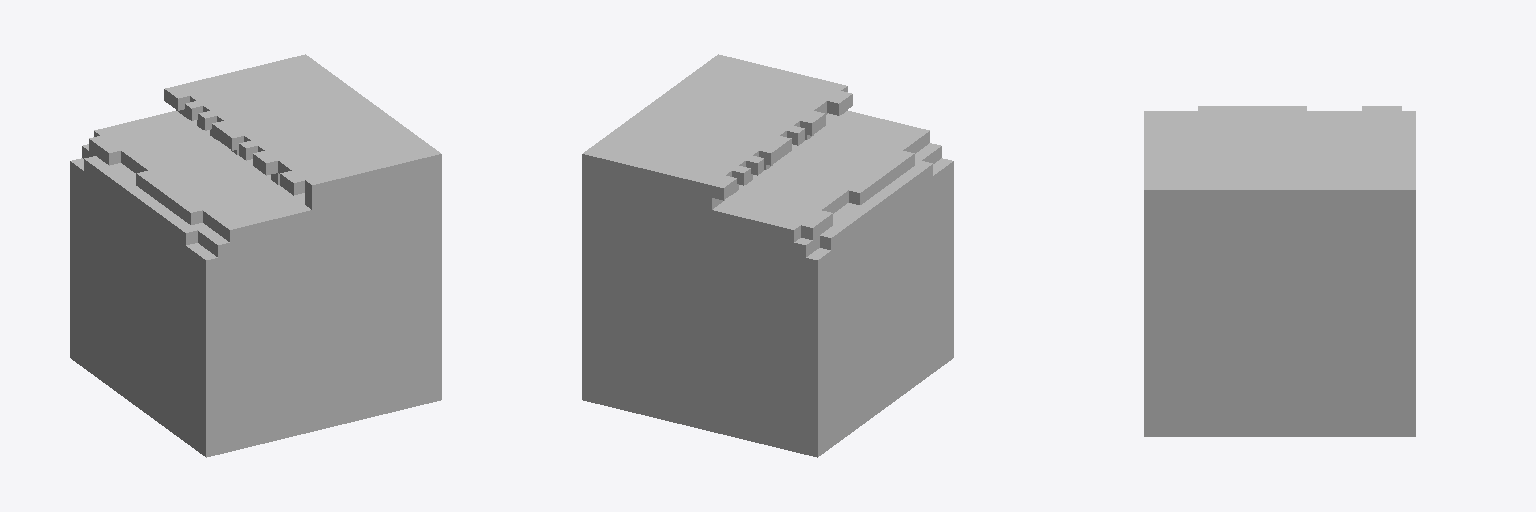
Rendered from Grass_Str.obj.
3 renders of one model, left to right at view 1: azimuth 30°, elevation 25°; view 2: azimuth 150°, elevation 25°; view 3: azimuth 270°, elevation 25°, orthographic.
Parts seen in each view (by area): view 1: Grass_Str; view 2: Grass_Str; view 3: Grass_Str.
Boxes of the visible parts, x1=… form: Grass_Str: x1=70, y1=54, x2=441, y2=457; Grass_Str: x1=582, y1=54, x2=953, y2=457; Grass_Str: x1=1144, y1=106, x2=1415, y2=436.
Bounding box in the file's own units: 20 × 20 × 20.